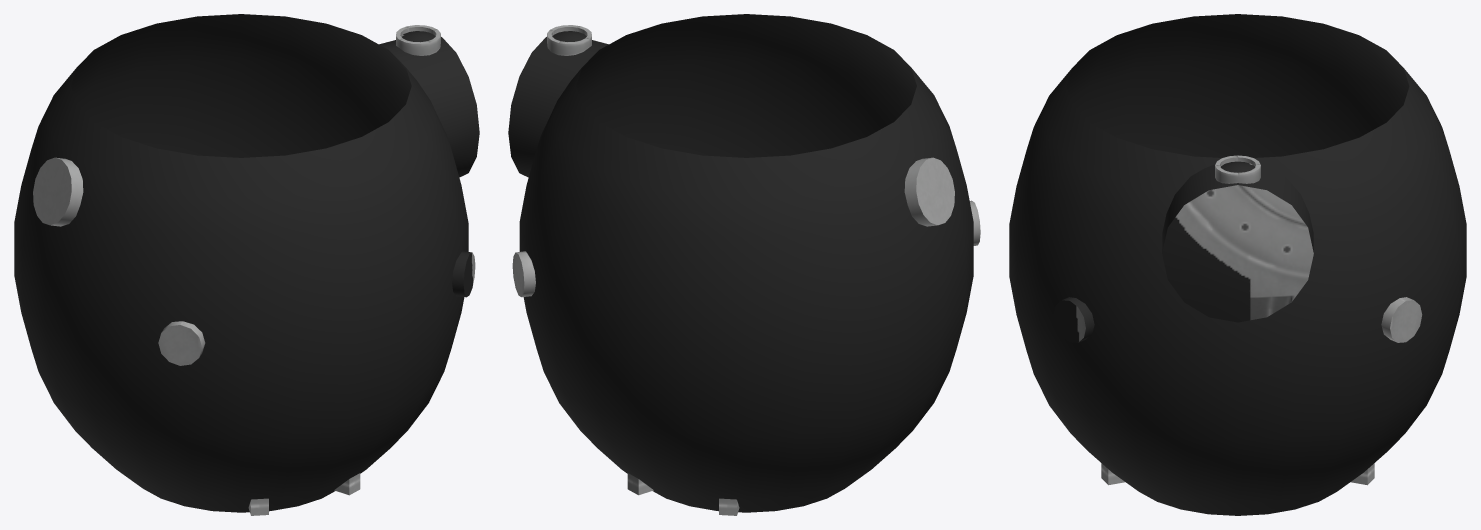
Rendered from tantares_orbital_module_s1_3.obj.
The picture shows the model from 3 angles, left to right: view 1: azimuth 30°, elevation 25°; view 2: azimuth 150°, elevation 25°; view 3: azimuth 270°, elevation 25°; orthographic projection.
Visible parts, largest first — view 1: mesh; view 2: mesh; view 3: mesh.
Part boxes in pixels (left/top/right/bottom): mesh: left=14, top=14, right=479, bottom=515; mesh: left=508, top=14, right=980, bottom=515; mesh: left=1009, top=14, right=1466, bottom=515.
Bounding box in the file's own units: 1.29 × 1.18 × 1.25.
